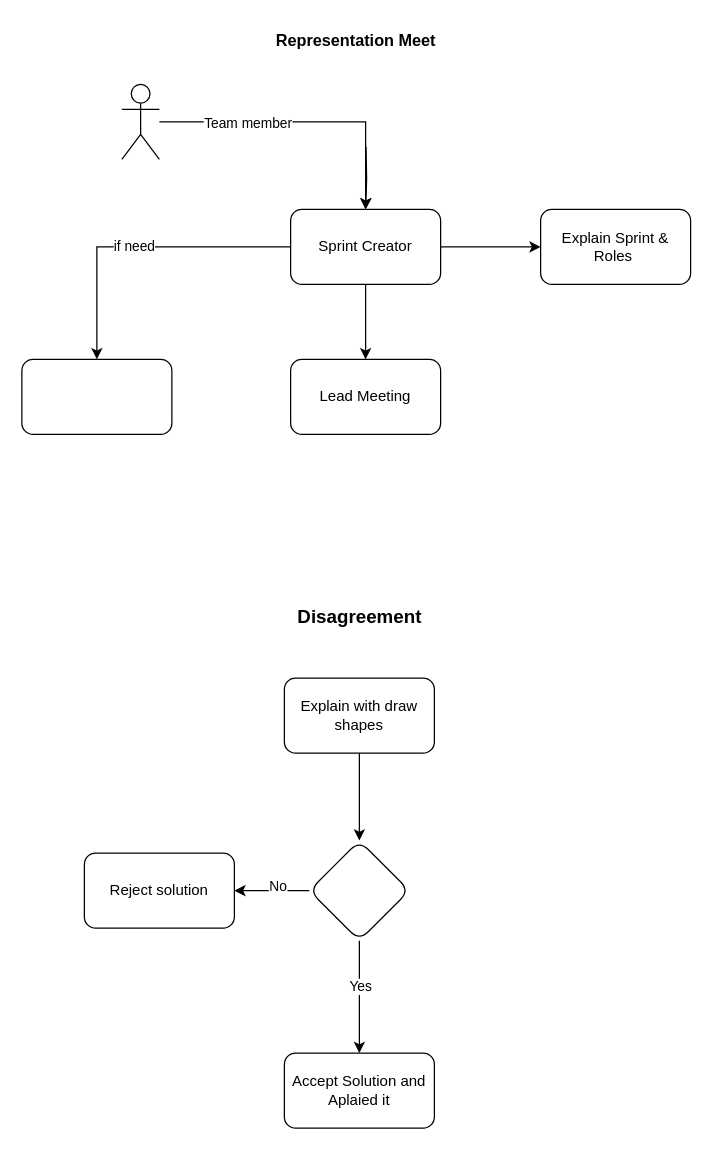
This 713x1150 diagram has some shape labels left out. Each missing label, with the centre of its shape:
"Actor" goes at pixel 140 121.
"All Agree?" goes at pixel 358 890.
"Create Schema" goes at pixel 96 396.
